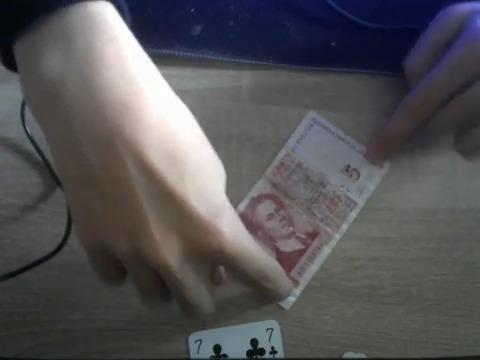5leva: (235, 113, 391, 311)
